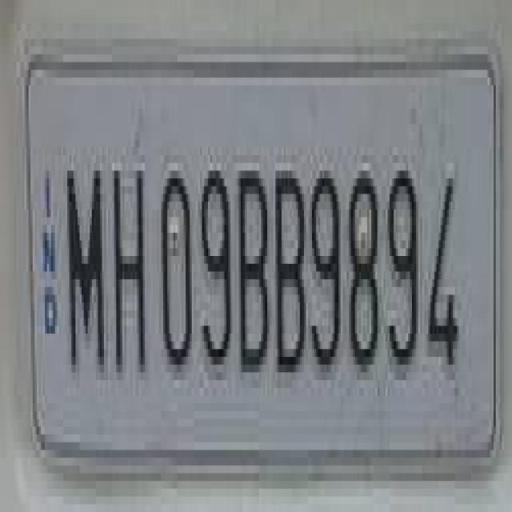number plate: (37, 54, 500, 466)
